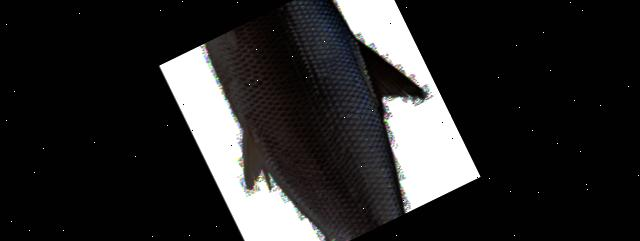Healthy Fish: (206, 0, 424, 241)
